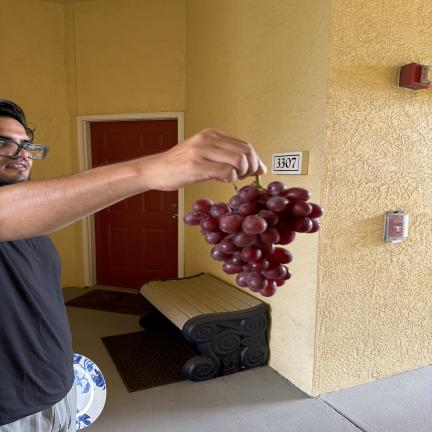grape_cluster: (184, 176, 324, 297)
